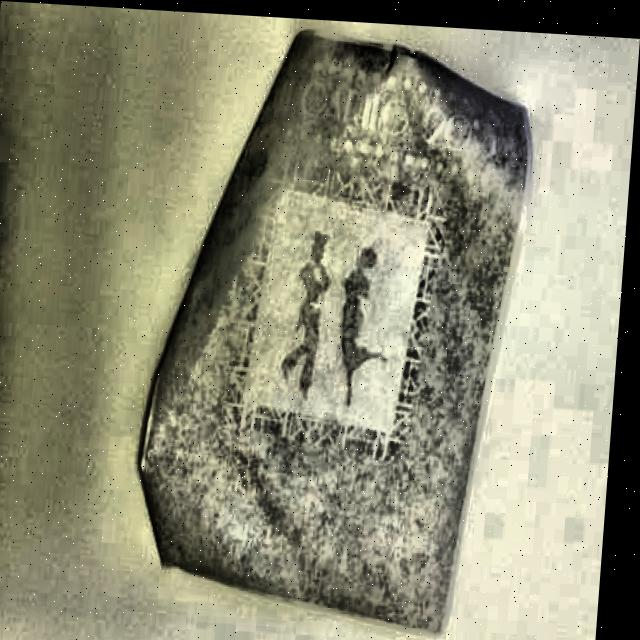paper: (121, 21, 546, 640)
